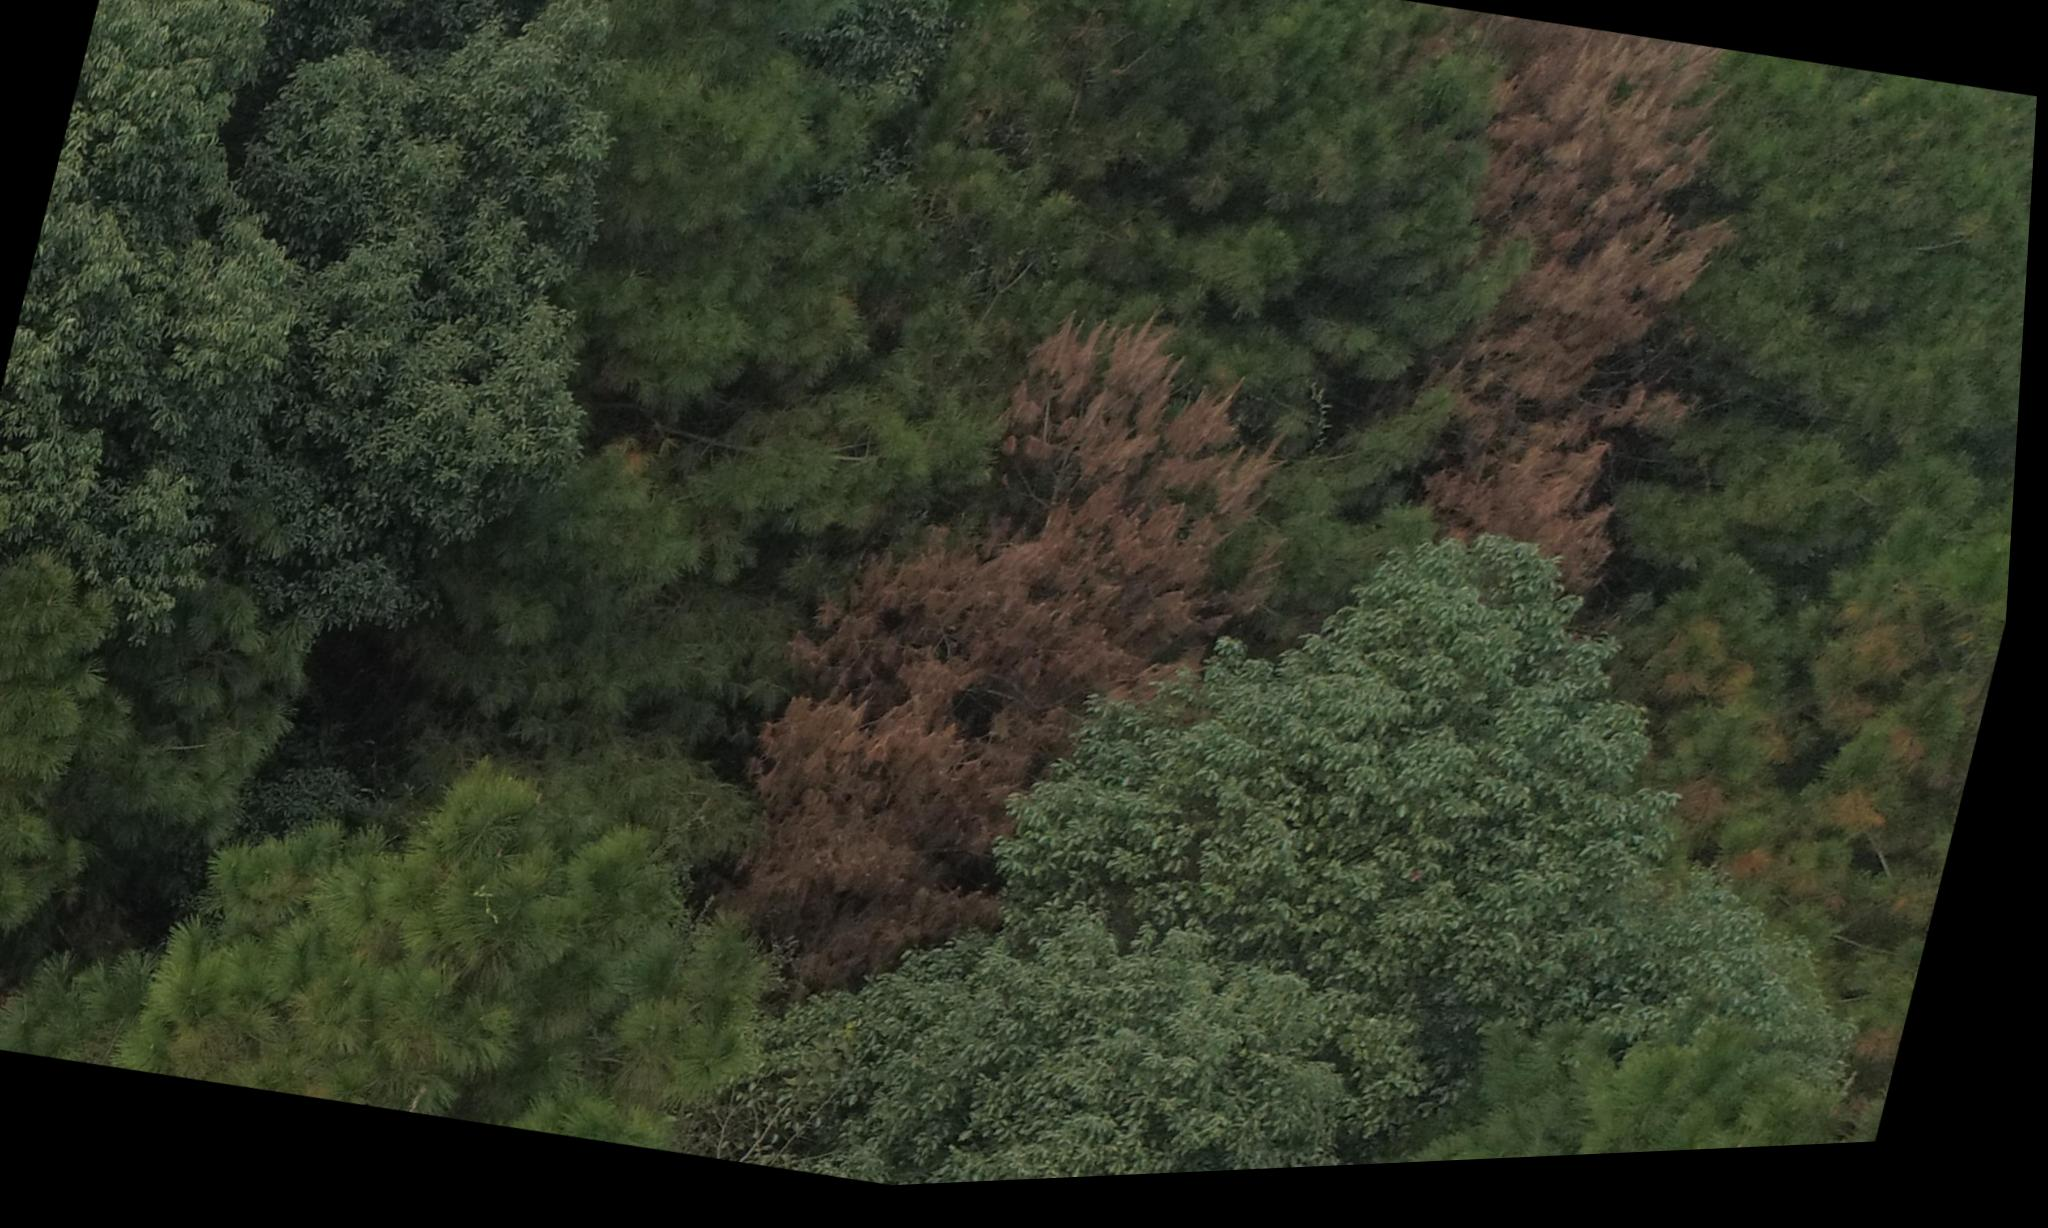heavy: (716, 272, 1327, 1066), (1412, 41, 1757, 607)
light: (1636, 569, 1995, 940)
